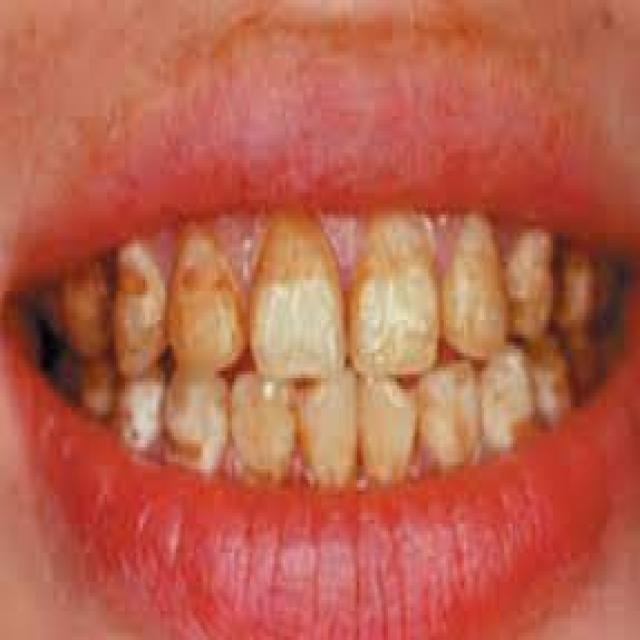LLCI_mdecay: (361, 374, 414, 486)
LLC_sdecay: (481, 353, 538, 445)
LLLI_sdecay: (418, 364, 475, 469)
LR1BC_sdecay: (112, 378, 161, 454)
LRCI_mdecay: (298, 379, 355, 482)
LRC_sdecay: (163, 377, 226, 471)
LRLI_mdecay: (227, 373, 294, 473)
ULCI_mdecay: (346, 212, 440, 371)
ULC_sdecay: (503, 228, 555, 343)
ULLI_mdecay: (440, 215, 509, 356)
URCI_mdecay: (249, 217, 346, 369)
URC_sdecay: (112, 252, 166, 373)
URLI_mdecay: (167, 238, 249, 369)
